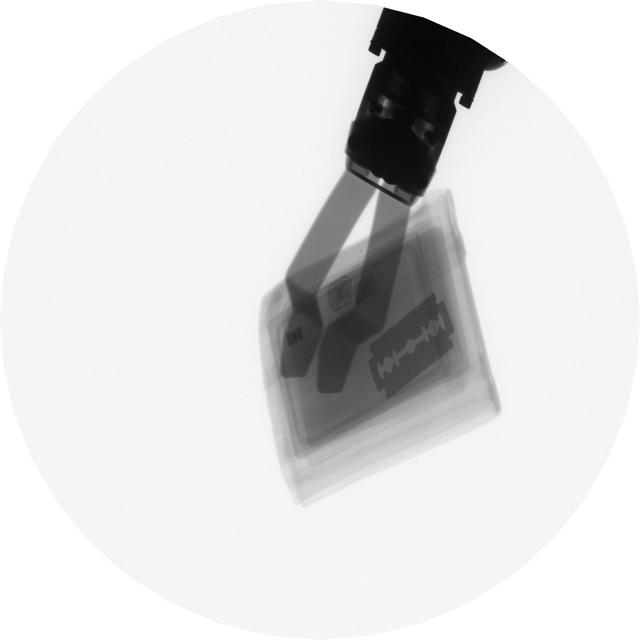razor: (364, 295, 462, 398)
